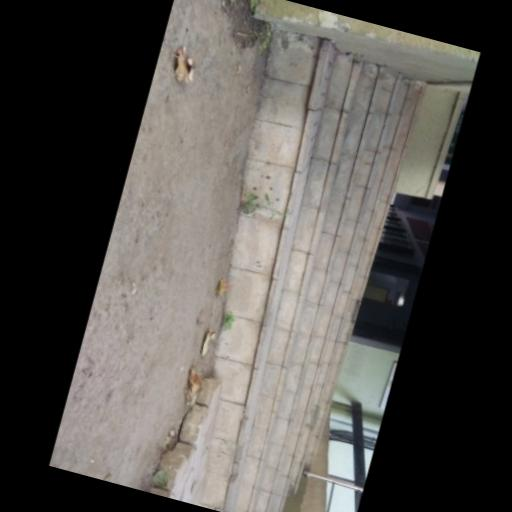stairs: (202, 34, 421, 511)
